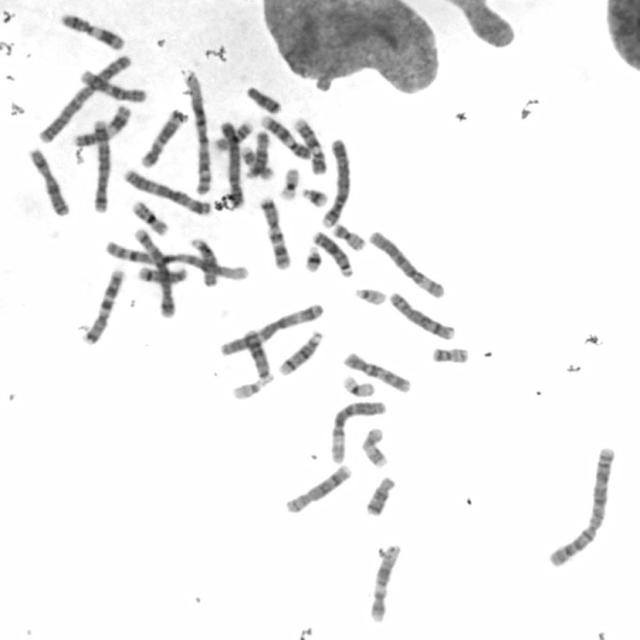A1: (101, 239, 250, 285), (181, 66, 213, 196)
A2: (544, 444, 618, 568), (35, 51, 133, 144)
A3: (215, 301, 326, 358), (122, 166, 212, 216)
B4: (317, 135, 352, 229), (216, 118, 245, 211)
B5: (124, 226, 178, 320), (89, 117, 112, 214)
C10: (340, 348, 413, 394), (77, 65, 148, 104)
C11: (69, 101, 133, 148), (57, 11, 127, 51)
C12: (138, 106, 189, 170), (367, 542, 403, 623)
C6: (365, 228, 447, 300), (327, 397, 387, 466)
C7: (79, 266, 126, 346), (256, 194, 294, 272)
C8: (281, 461, 354, 515), (385, 289, 456, 341)
C9: (258, 112, 310, 161), (291, 115, 327, 176)
D13: (308, 226, 355, 279), (240, 326, 274, 382)
D14: (276, 328, 324, 377), (134, 263, 189, 286)
D15: (188, 234, 220, 289), (242, 128, 272, 182)
E16: (129, 198, 170, 237), (212, 118, 254, 152)
E17: (358, 424, 390, 470), (239, 146, 275, 180)
E18: (361, 473, 397, 517), (242, 84, 282, 115)
F19: (339, 372, 377, 398), (276, 164, 301, 202)
F20: (330, 220, 368, 253), (429, 343, 470, 364)
G21: (302, 243, 324, 274), (300, 186, 330, 208)
G22: (228, 377, 268, 401), (351, 284, 388, 307)
X: (25, 145, 72, 217)
